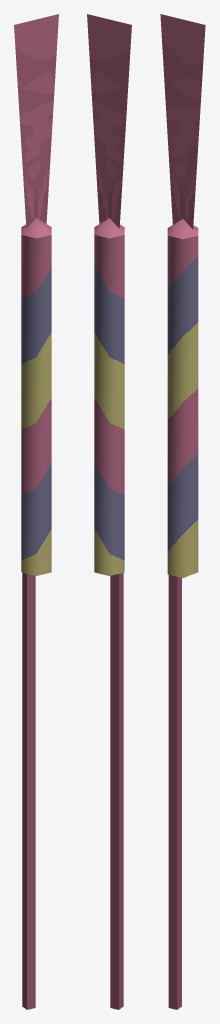
The model's file is 0166_Sparkler.glb.
3 views of the same model, side by side, from view 1: azimuth 30°, elevation 25°; view 2: azimuth 150°, elevation 25°; view 3: azimuth 330°, elevation 25° (orthographic).
Parts seen in each view (by area): view 1: part_0; view 2: part_0; view 3: part_0.
Part boxes in pixels (box(x1,y1,x2,y2)): part_0: box(14, 14, 58, 1009); part_0: box(87, 14, 131, 1009); part_0: box(160, 14, 205, 1009).
Bounding box in the file's own units: 0.0171 × 0.3581 × 0.0101.
1 material, 1 textured.
